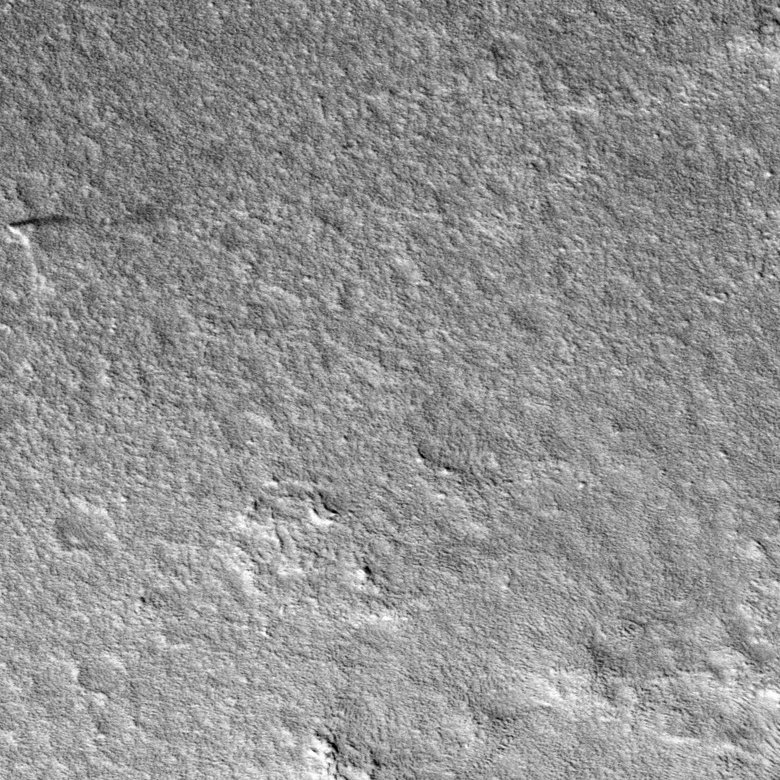dust_devil: (5, 212, 73, 248)
